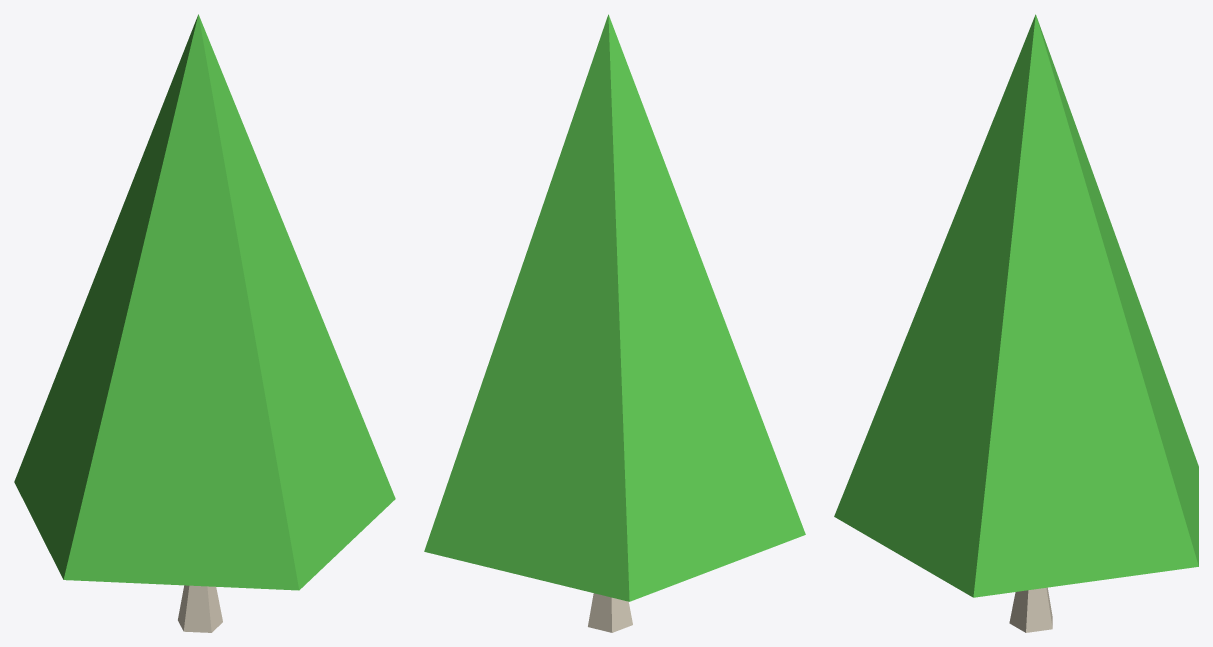
The model's file is land_tree_toy_cone_green_far.glb.
3 views of the same model, side by side, from view 1: azimuth 30°, elevation 25°; view 2: azimuth 150°, elevation 25°; view 3: azimuth 270°, elevation 25° (orthographic).
Size of the model in its own units: 4.57 by 8 by 4.34.
